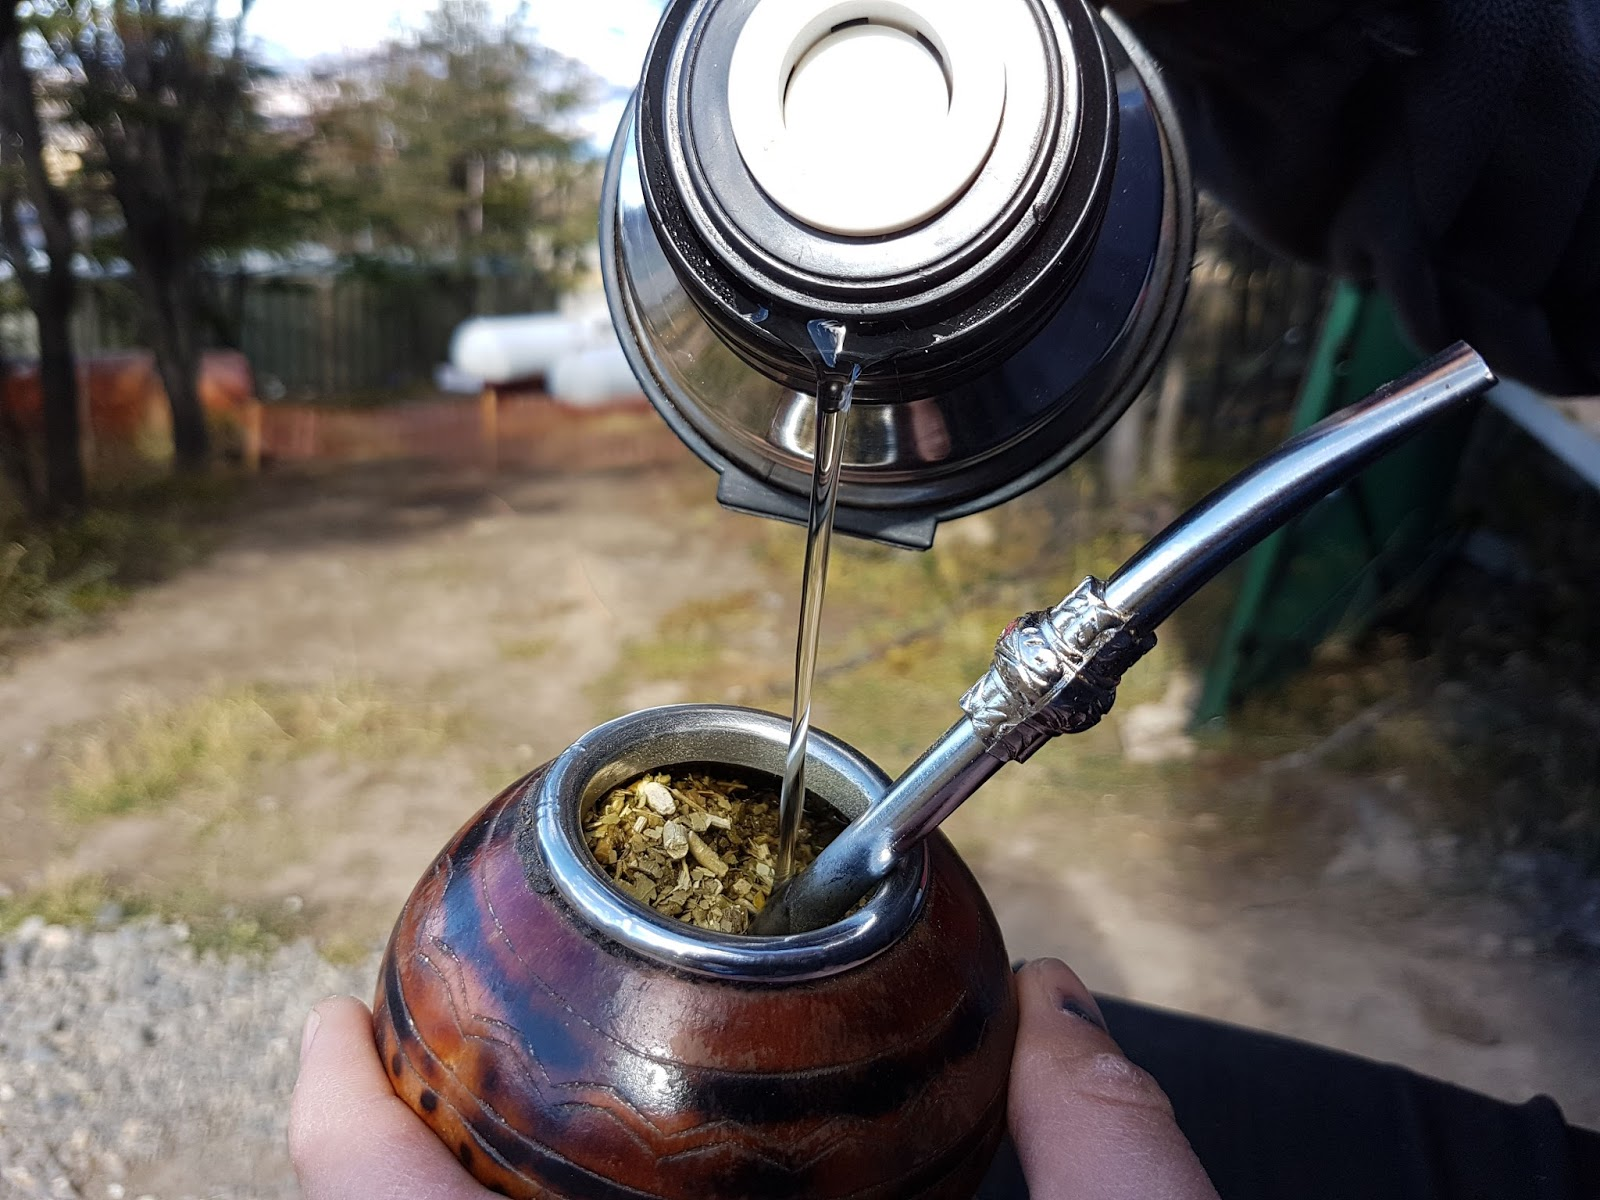guampa: (219, 300, 1495, 1200)
